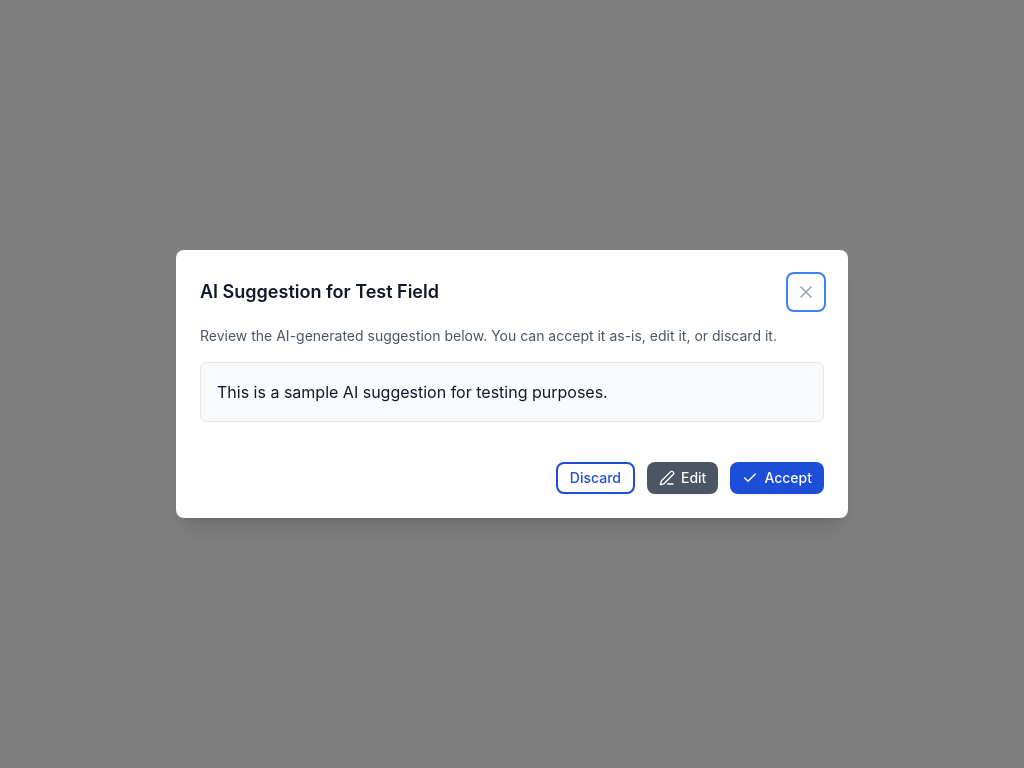
Scenario: AISuggestionModal Component › enters edit mode when Edit button is clicked
This screenshot has width=1024, height=768.
Click the button "Edit".
click(683, 478)  # box [647,462,718,494]
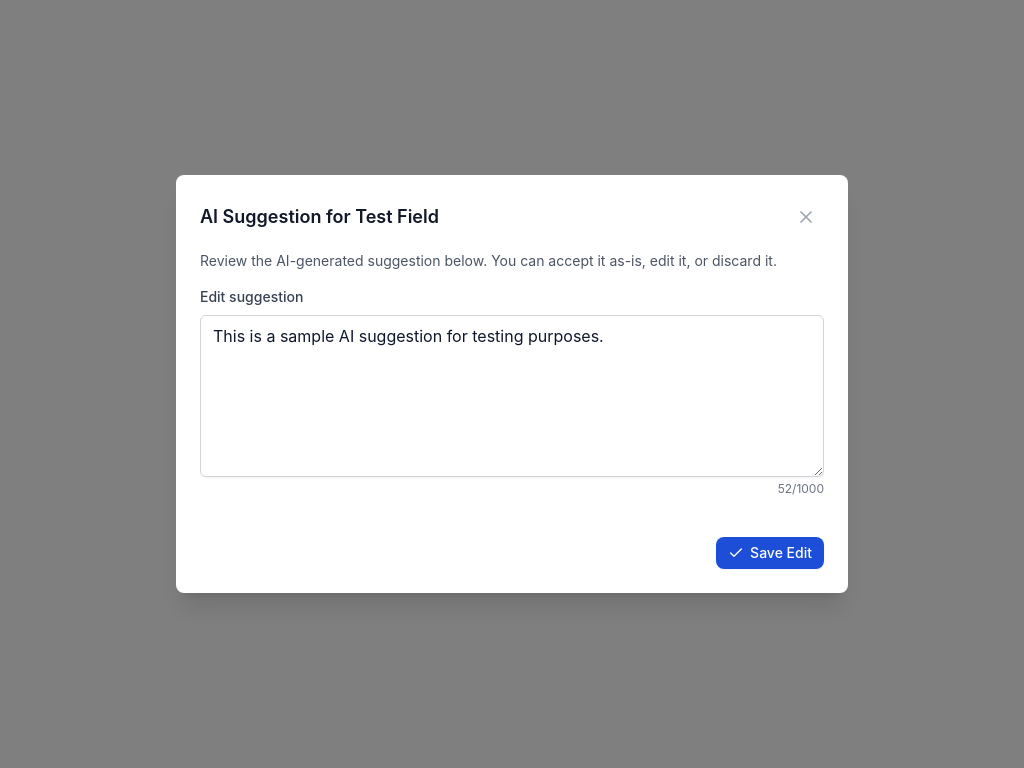
Expected: the text box named "Edit suggestion" is shown, [200,315,824,477]
Expected: the text "Save Edit" is shown, [750,543,812,563]
